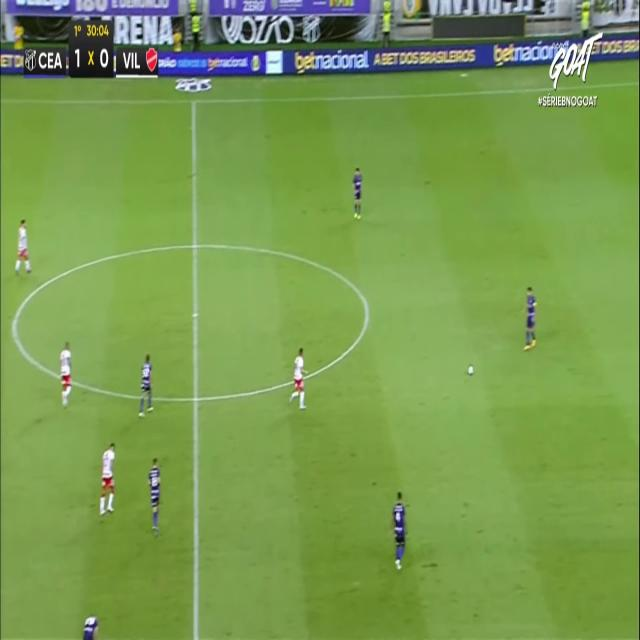ball: (468, 365, 474, 375)
player: (289, 347, 308, 409), (99, 442, 115, 515), (392, 491, 406, 570), (14, 218, 32, 275), (138, 353, 154, 417), (148, 457, 161, 535), (523, 286, 537, 350), (78, 604, 102, 640), (59, 341, 72, 407), (352, 166, 362, 220)
